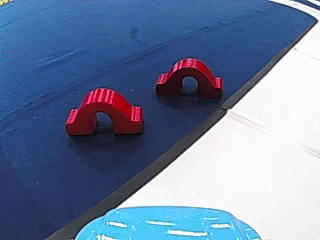bridge: (60, 83, 145, 137), (154, 54, 226, 100)
